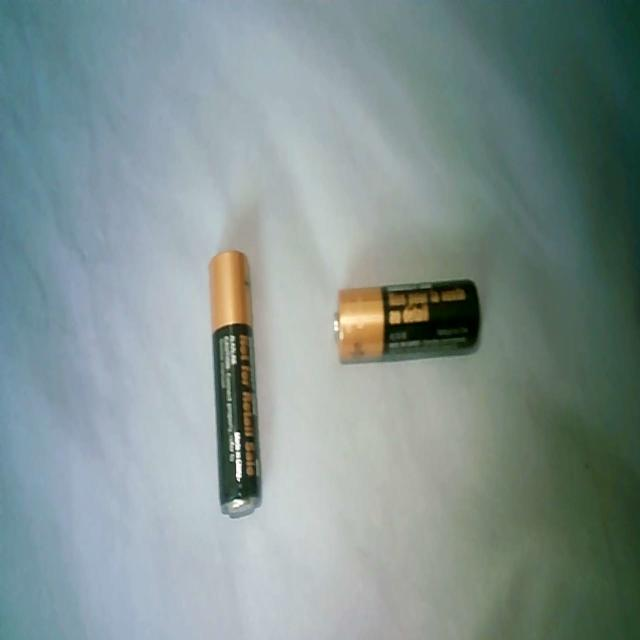AA: (208, 248, 262, 518), (333, 277, 480, 364)
